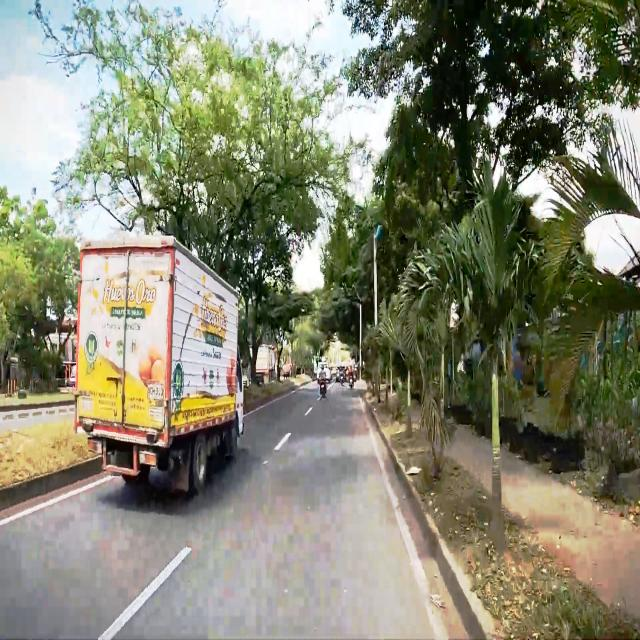license_plate: (148, 384, 163, 399)
